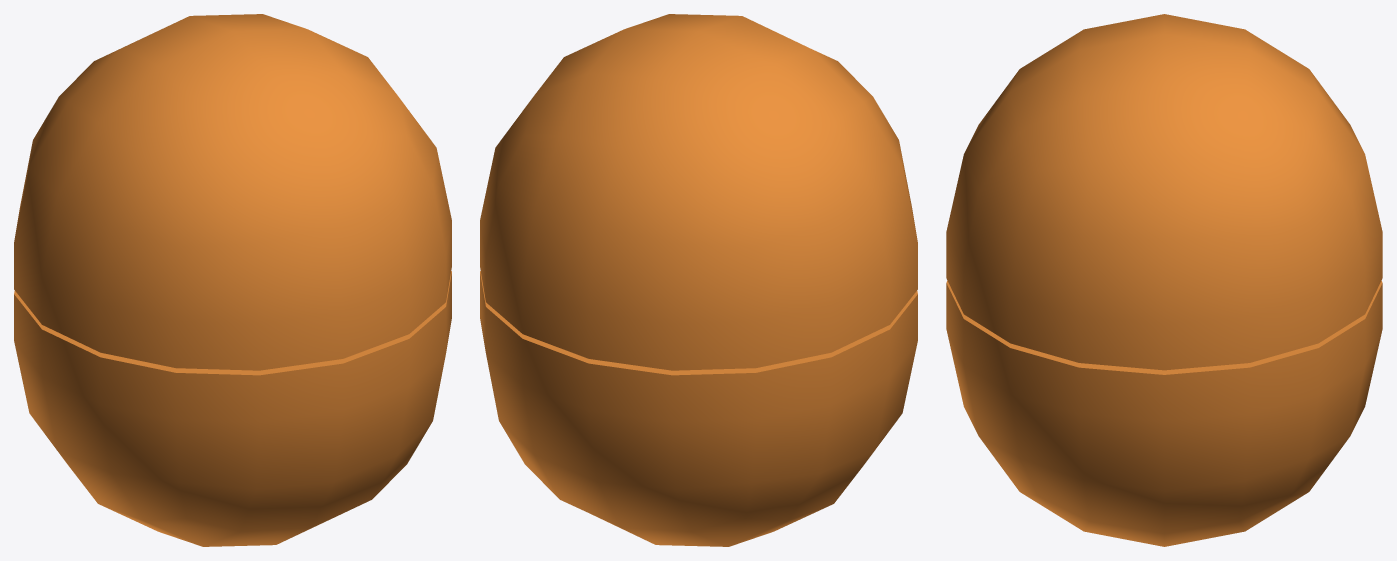
Rendered from ZeeboPod.fbx.
3 views of the same model, side by side, from view 1: azimuth 30°, elevation 25°; view 2: azimuth 150°, elevation 25°; view 3: azimuth 270°, elevation 25° (orthographic).
Parts seen in each view (by area): view 1: ZeeboPod; view 2: ZeeboPod; view 3: ZeeboPod.
Part boxes in pixels (<box>): ZeeboPod: <box>14,14,451,546</box>; ZeeboPod: <box>480,14,917,546</box>; ZeeboPod: <box>946,14,1382,546</box>.
Size of the model in its own units: 0.394 by 0.4906 by 0.394.
